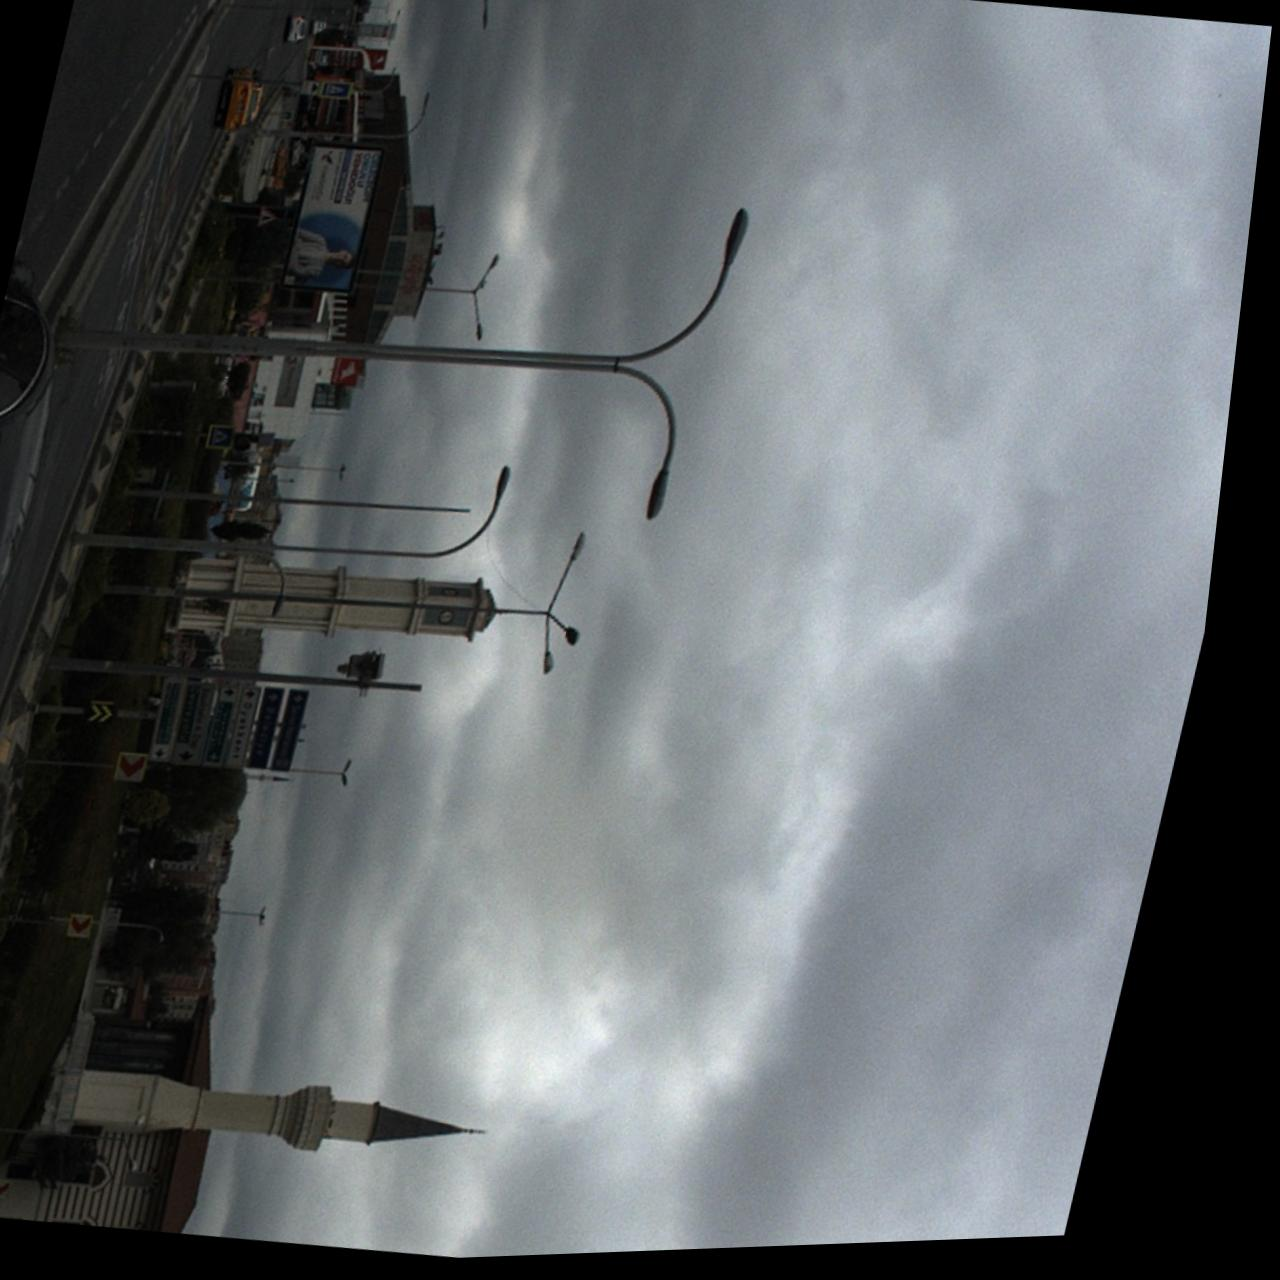SignStore: (402, 234, 440, 320), (339, 360, 369, 390)
